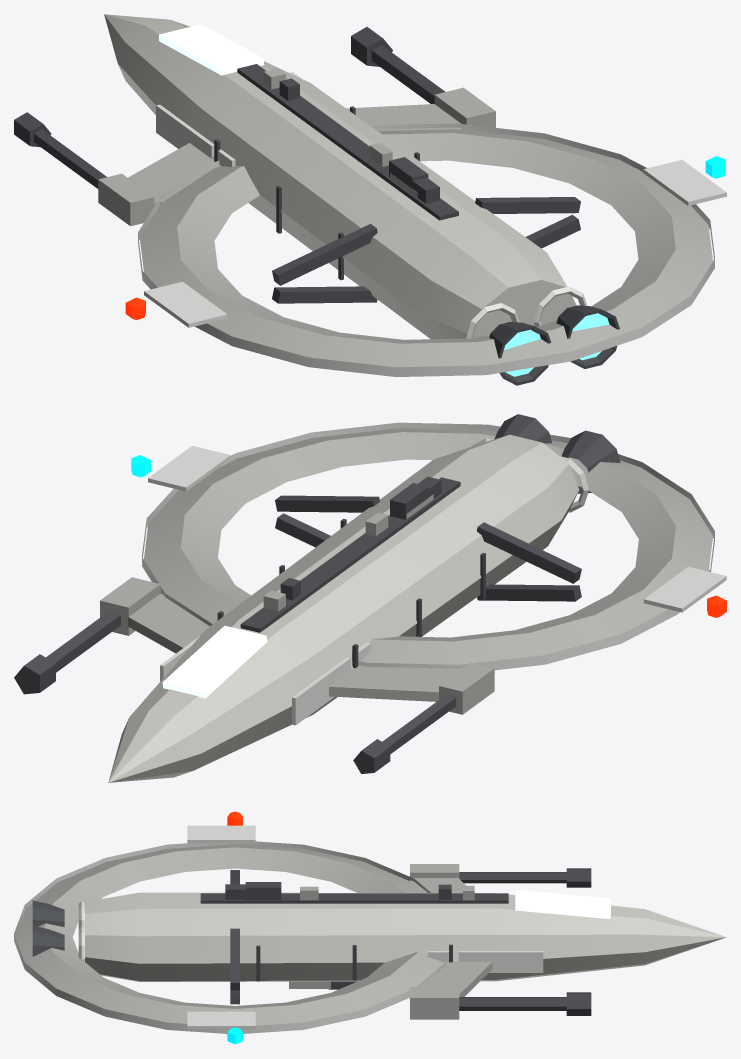
The model's file is falcon.glb.
3 renders of one model, top to bottom at view 1: azimuth 30°, elevation 25°; view 2: azimuth 150°, elevation 25°; view 3: azimuth 270°, elevation 25°, orthographic. The views are drawn at different scales.
Parts seen in each view (by area): view 1: Hull; view 2: Hull; view 3: Hull.
Part boxes in pixels (bbox=[...]): Hull: bbox=[14, 14, 726, 385]; Hull: bbox=[14, 414, 726, 782]; Hull: bbox=[14, 811, 726, 1044].
Size of the model in its own units: 1.47 by 0.3229 by 2.
